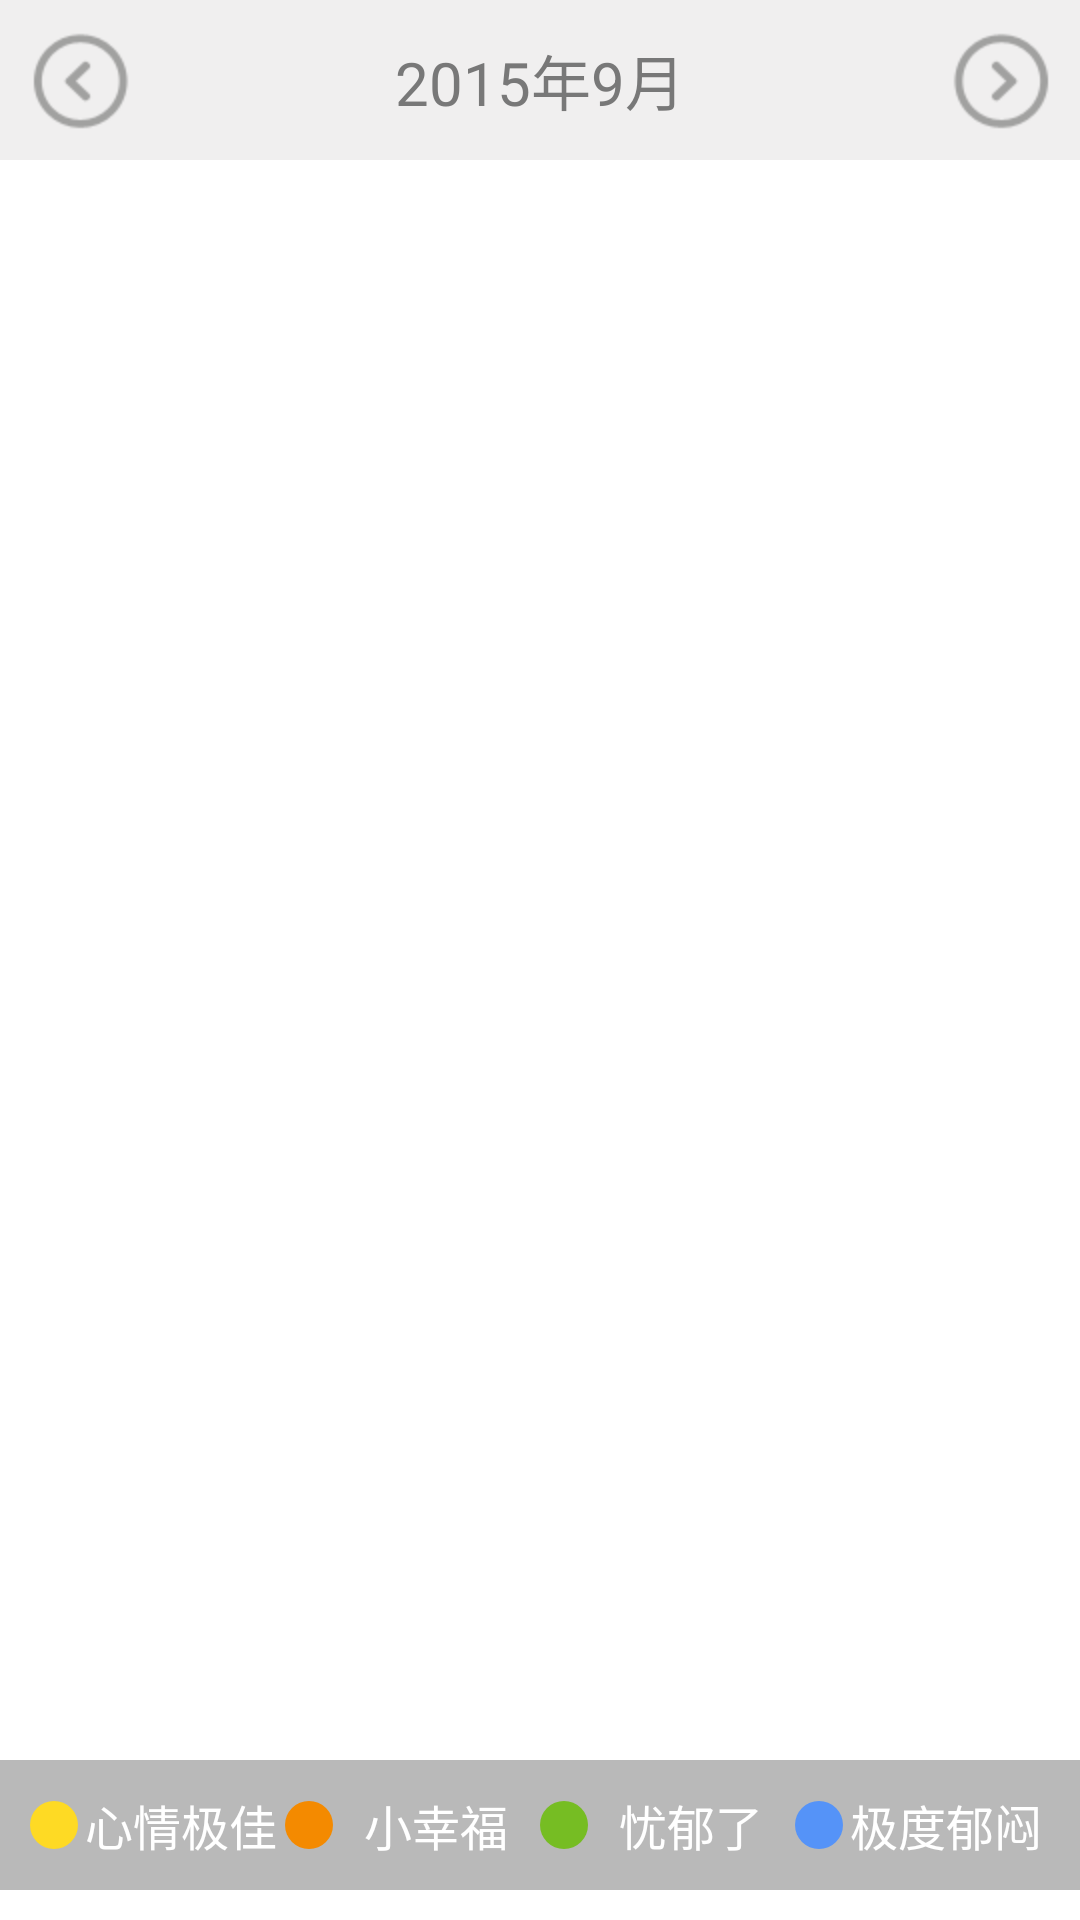

Icon bounding boxes for this 1080px x 1920px phone screenshot, format [x1=x1, y1=y1, x2=x2, y2=y2]:
left arrow: [x1=34, y1=34, x2=128, y2=128]
right arrow: [x1=954, y1=34, x2=1048, y2=128]
